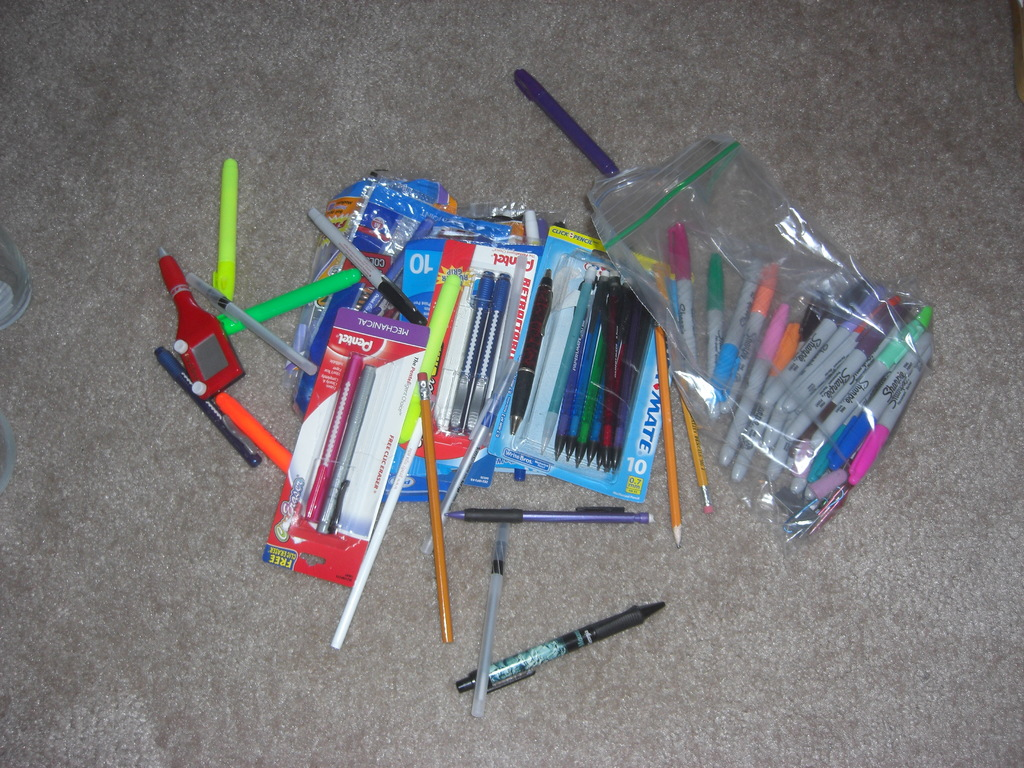Pen: (720, 260, 931, 536), (532, 272, 664, 477), (454, 596, 664, 702), (307, 204, 430, 325), (187, 272, 322, 374), (155, 351, 263, 469), (159, 245, 234, 410), (511, 74, 617, 187), (186, 280, 312, 373), (301, 350, 360, 529), (404, 266, 461, 444), (424, 407, 492, 556), (212, 271, 360, 333), (503, 266, 554, 440), (326, 366, 376, 536), (440, 504, 654, 533), (474, 533, 507, 721), (207, 158, 237, 307), (703, 245, 725, 399), (672, 220, 692, 379)
